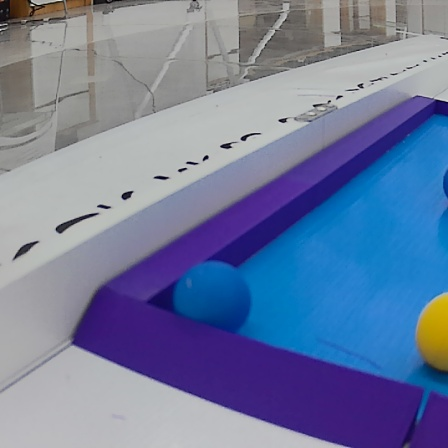blue: (168, 256, 257, 338)
blue_aim: (66, 90, 448, 448)
yellow: (407, 282, 448, 377)
